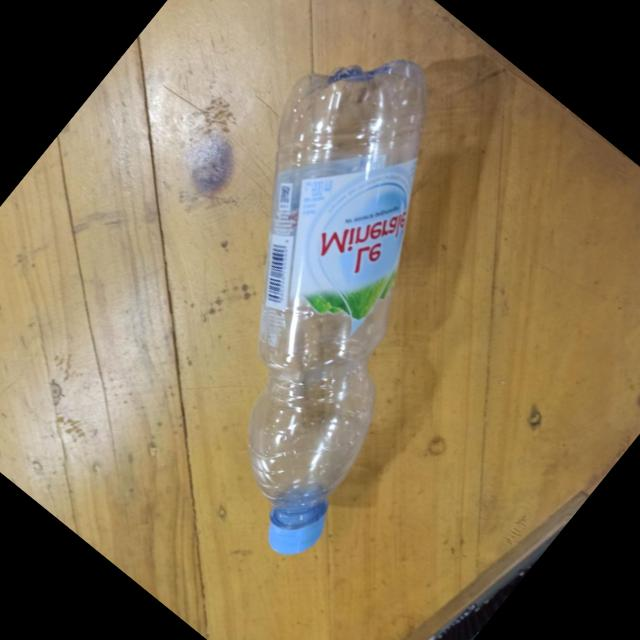BotolPlastik: (55, 12, 590, 570)
